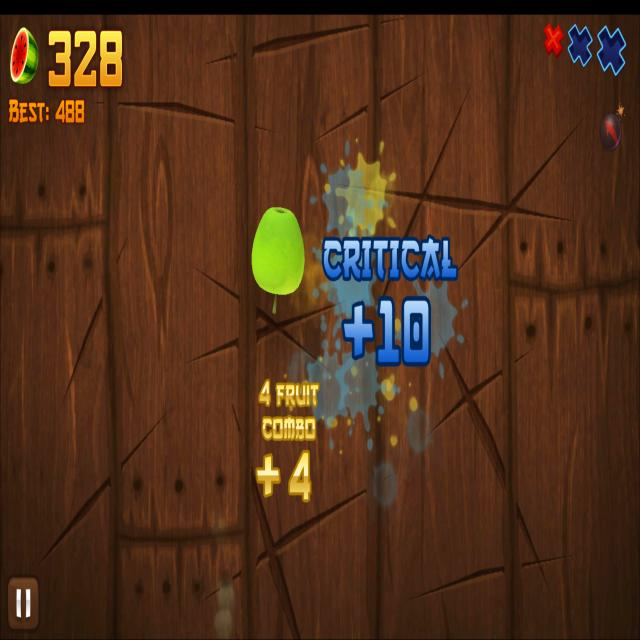fruit: (251, 205, 306, 296)
